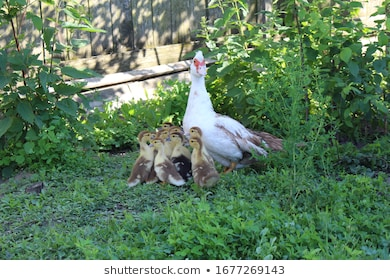duck: (169, 44, 301, 167), (183, 136, 220, 199)
